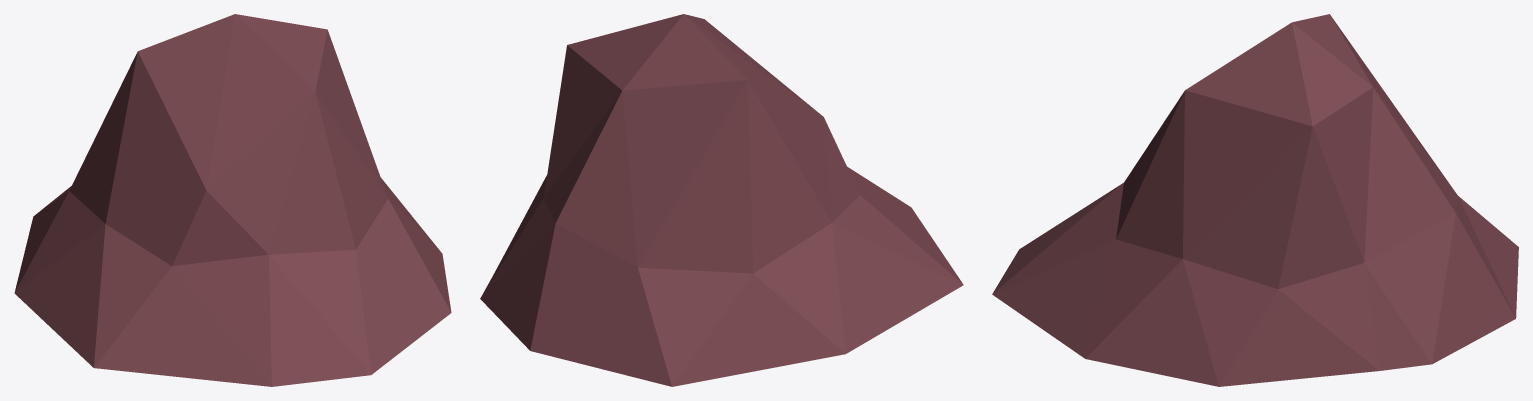
The model's file is rock_1.fbx.
3 renders of one model, left to right at view 1: azimuth 30°, elevation 25°; view 2: azimuth 150°, elevation 25°; view 3: azimuth 270°, elevation 25°, orthographic. The views are drawn at different scales.
Parts seen in each view (by area): view 1: Icosphere; view 2: Icosphere; view 3: Icosphere.
Part boxes in pixels (x1,y1,x2,y2): Icosphere: (14,14,451,386); Icosphere: (480,14,963,386); Icosphere: (992,14,1518,386).
Bounding box in the file's own units: 245 × 159 × 277.
